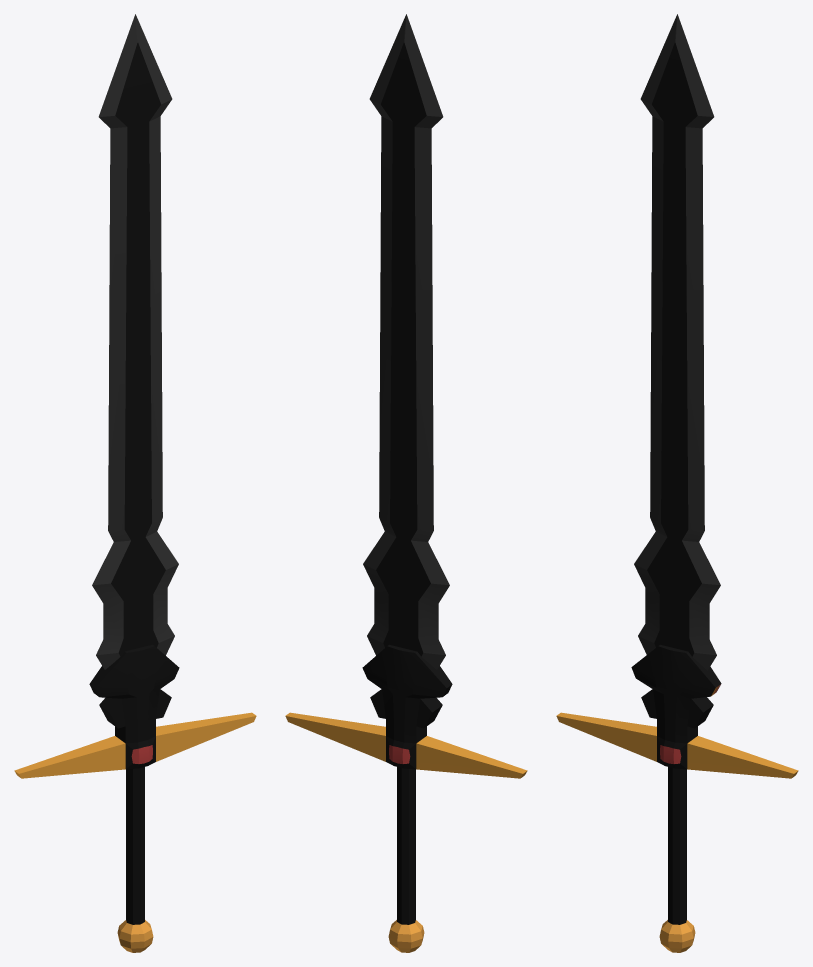
Rendered from one_handed_sword_2.fbx.
The picture shows the model from 3 angles, left to right: view 1: azimuth 30°, elevation 25°; view 2: azimuth 150°, elevation 25°; view 3: azimuth 330°, elevation 25°; orthographic projection.
Visible parts, largest first — view 1: one_handed_sword_2; view 2: one_handed_sword_2; view 3: one_handed_sword_2.
Boxes of the visible parts, box(x1,y1,x2,y2) form: one_handed_sword_2: box(14, 14, 256, 952); one_handed_sword_2: box(285, 14, 527, 952); one_handed_sword_2: box(556, 14, 798, 952).
Size of the model in its own units: 0.3483 by 1.31 by 0.0471.
Materials: 1 (1 with a texture image).
